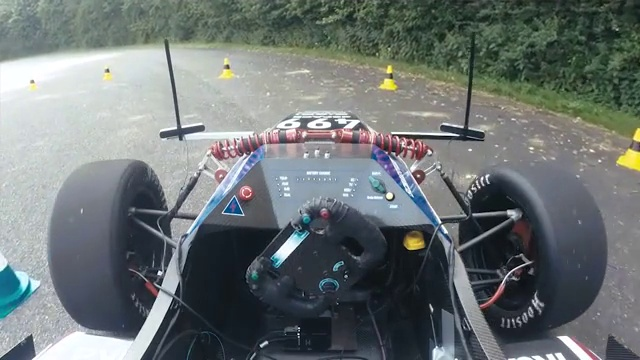Cone: (616, 128, 640, 170), (378, 65, 398, 89), (221, 56, 235, 80)
